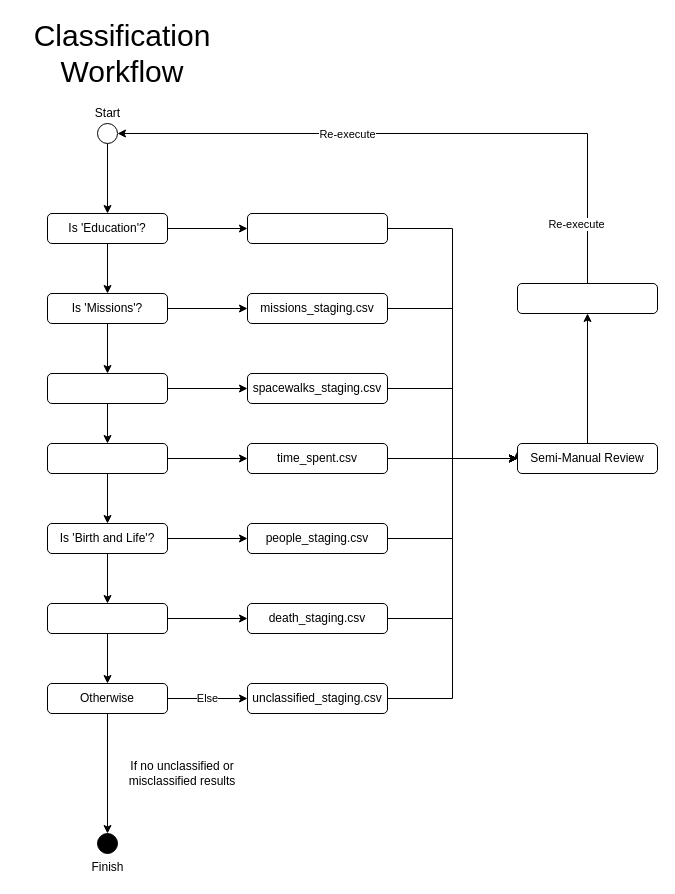
The diagram is 675 pixels wide and 894 high, and some of its shapes have lost their labels. Here are the shapes that lost their labels. From the top down, the centre of each, then its label:
At (317,228): "education_staging.csv".
At (587,298): "Modify Script".
At (107,388): "Is 'Spacewalks'?".
At (107,458): "Is 'Time Spent'?".
At (107,618): "Is 'Death' ?".
